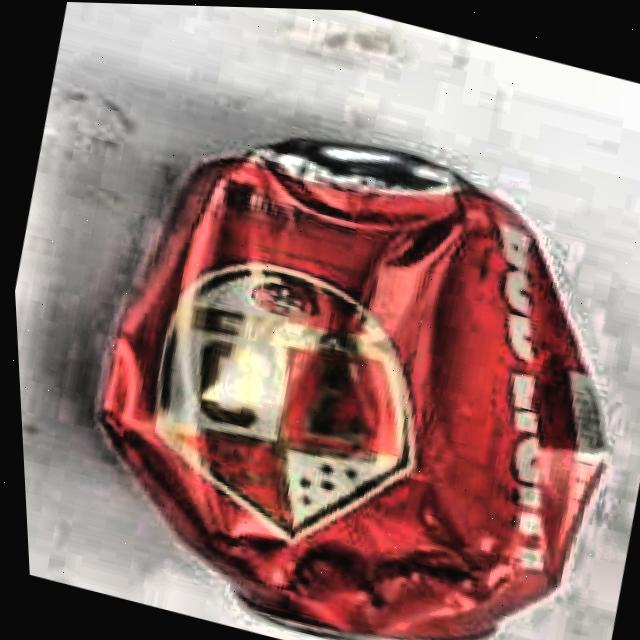metal: (35, 79, 640, 640)
